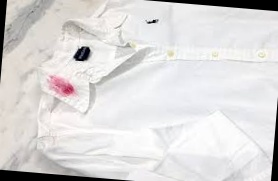lipstick: (45, 72, 78, 105)
